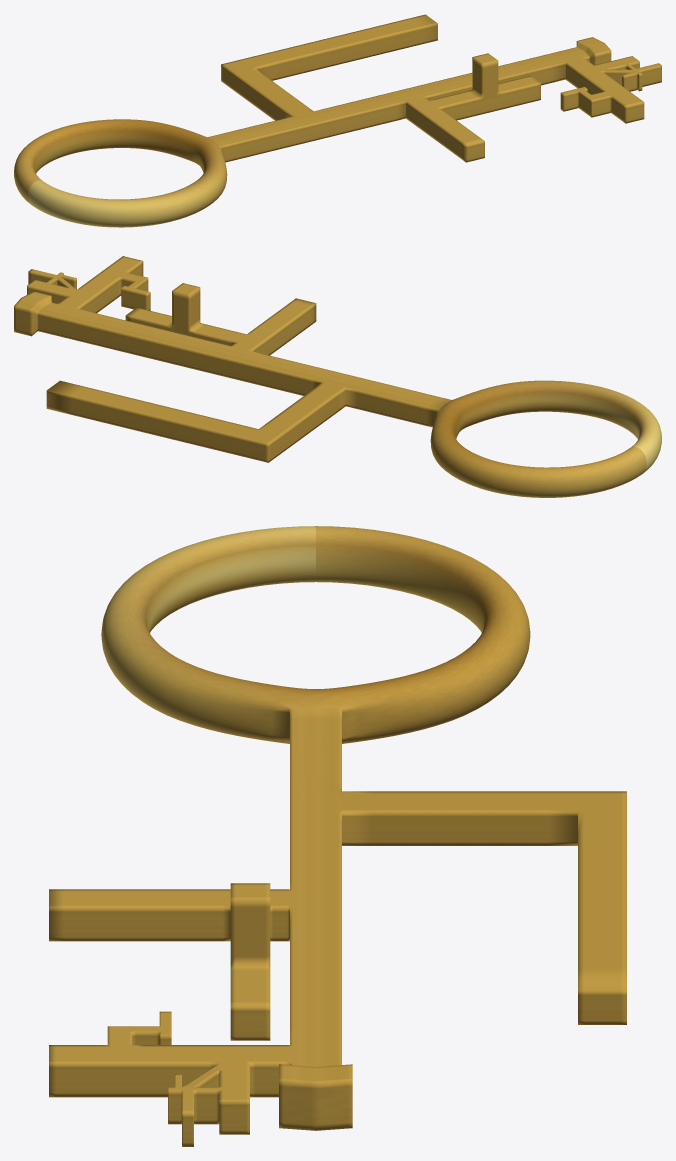
Rendered from Key.fbx.
3 views of the same model, one above another, from view 1: azimuth 30°, elevation 25°; view 2: azimuth 150°, elevation 25°; view 3: azimuth 270°, elevation 25° (orthographic). The views are drawn at different scales.
Visible parts, largest first — view 1: Key; view 2: Key; view 3: Key.
Boxes of the visible parts, <box> form: Key: <box>14,14,661,227</box>; Key: <box>14,256,661,497</box>; Key: <box>49,526,626,1146</box>.
Size of the model in its own units: 146 by 12.7 by 60.81.
Materials: 1 (1 with a texture image).
